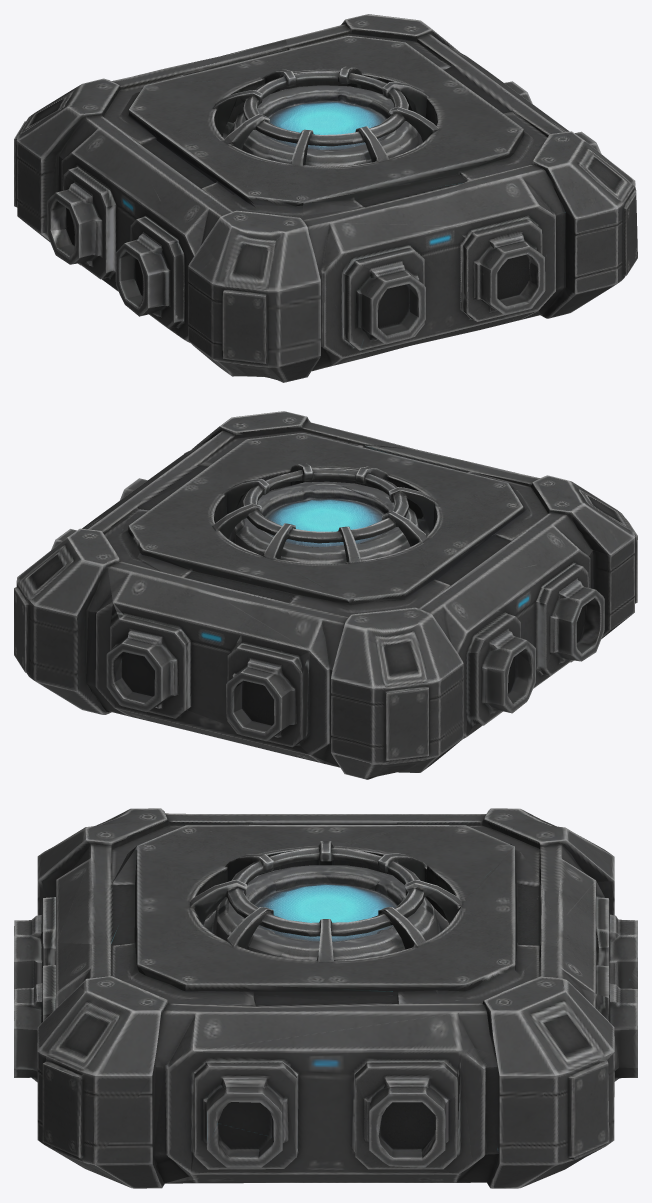
Rendered from Meshy_AI_Neon_Core_Nexus_1019143324_texture.fbx.
3 views of the same model, one above another, from view 1: azimuth 30°, elevation 25°; view 2: azimuth 150°, elevation 25°; view 3: azimuth 270°, elevation 25° (orthographic). The views are drawn at different scales.
Visible parts, largest first — view 1: output_unwrapped; view 2: output_unwrapped; view 3: output_unwrapped.
Boxes of the visible parts, box(x1,y1,x2,y2) form: output_unwrapped: box(14, 14, 637, 382); output_unwrapped: box(14, 411, 637, 779); output_unwrapped: box(14, 808, 637, 1188).
Size of the model in its own units: 190 by 78.63 by 190.
Materials: 1 (1 with a texture image).
